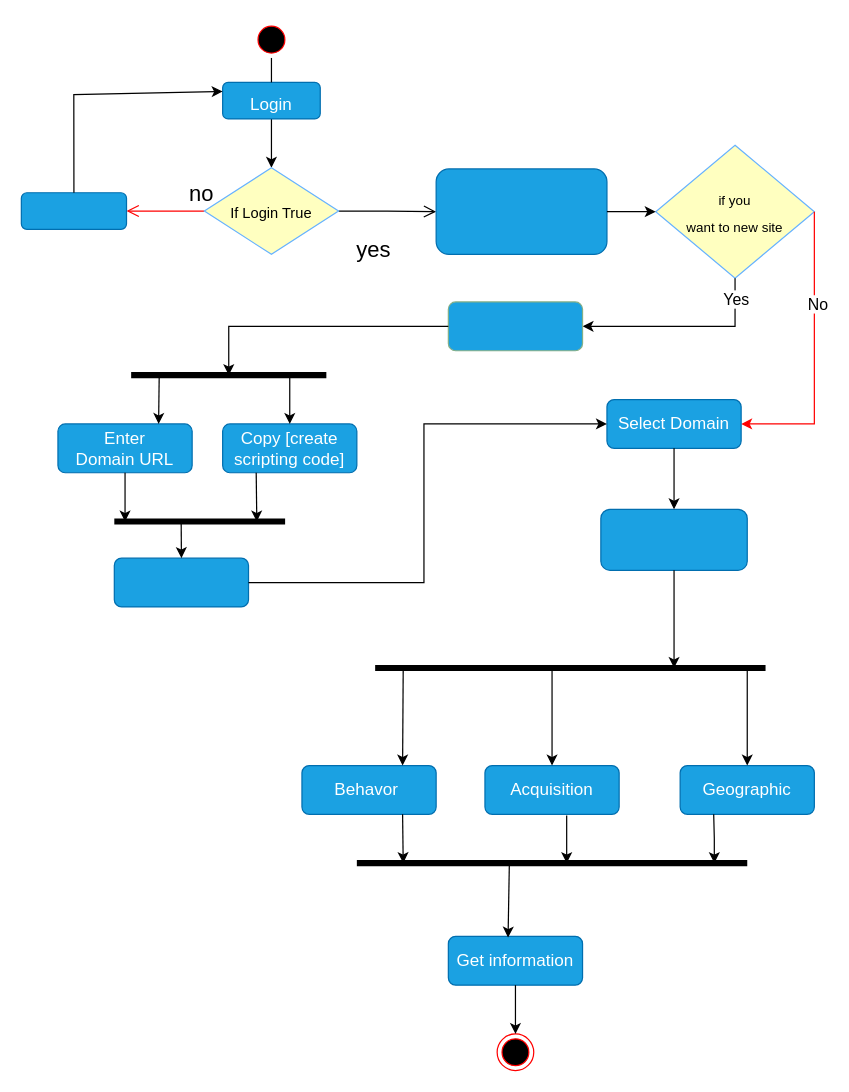
Some shapes in this 849 by 1092 pixel diagram are drawn without their labels. Here are the shapes that lost their labels. From the top down, the centre of each, then its label:
At point (73, 210): "Sigin Up".
At point (521, 211): "Login Success [ Set UserName & UserID to Session ] Goto Dashboard".
At point (515, 326): "Add new site".
At point (673, 539): "You can Show all Activity".
At point (181, 582): "Add Domain".
